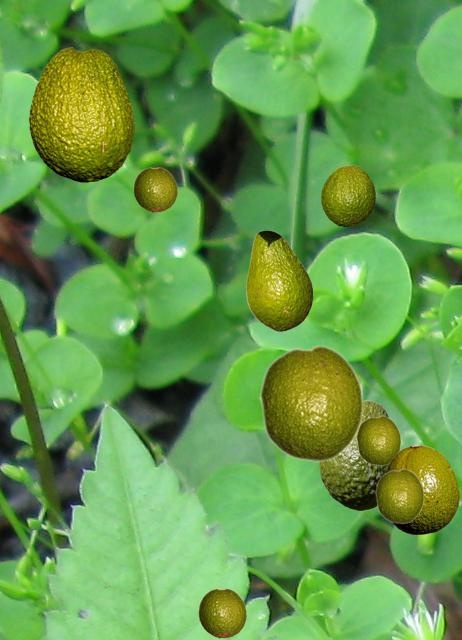avocado: (29, 47, 133, 181), (259, 344, 363, 462), (319, 400, 388, 509), (246, 230, 312, 330), (385, 445, 458, 533), (321, 165, 374, 225), (375, 468, 423, 523), (198, 588, 246, 637), (356, 415, 400, 465), (133, 167, 177, 211)
